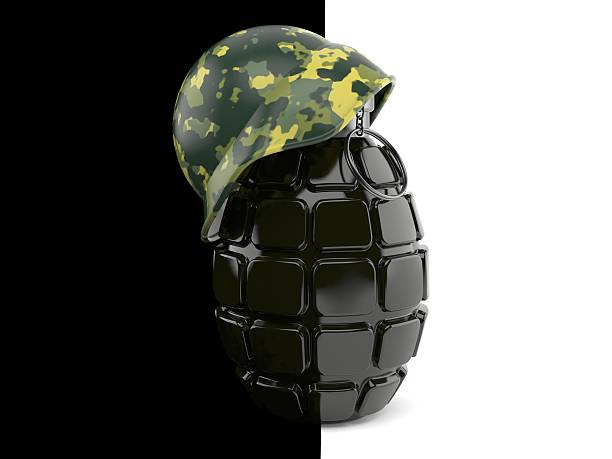e1: (205, 98, 436, 420)
